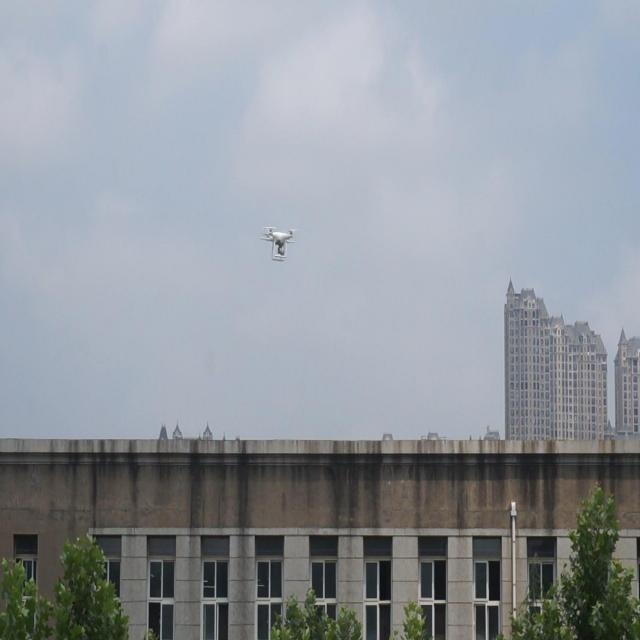UAV: (260, 227, 298, 261)
